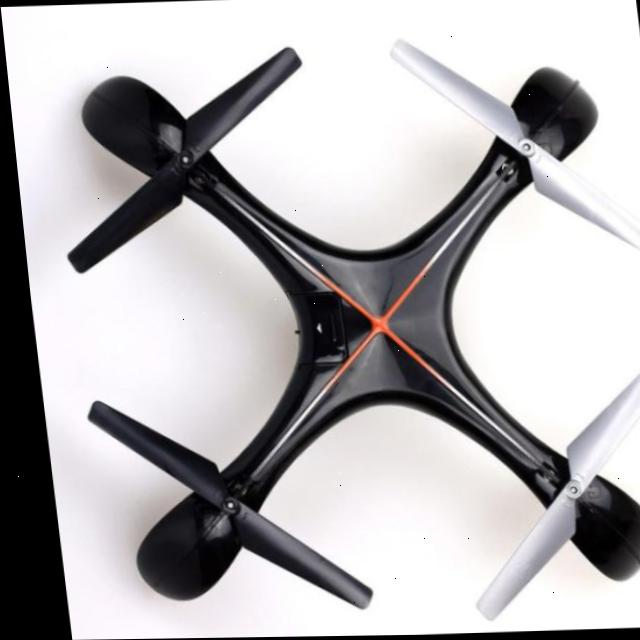drones: (20, 17, 640, 640)
